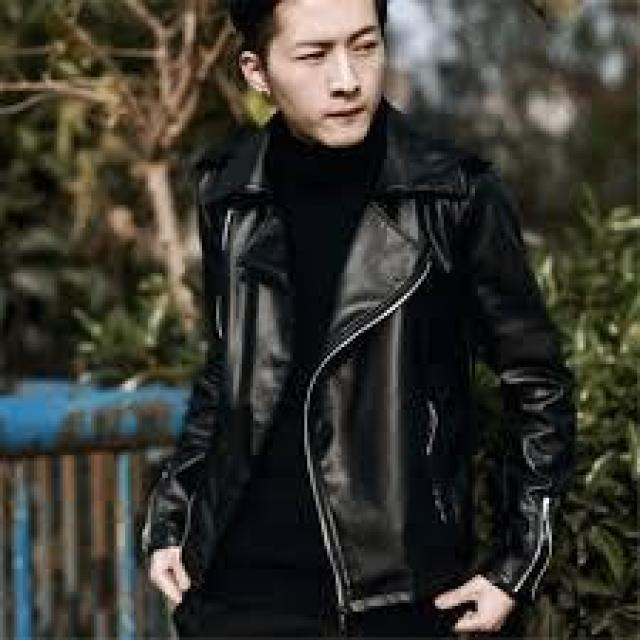jacket: (144, 111, 578, 592)
